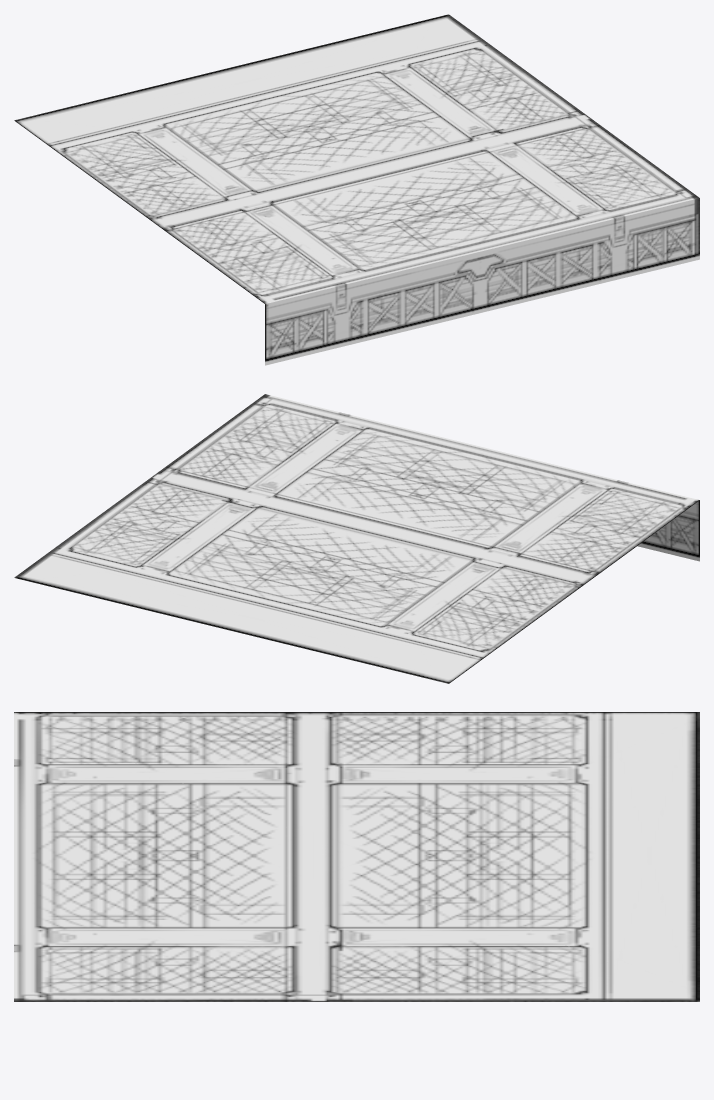
Rendered from WFpCube4.fbx.
3 views of the same model, one above another, from view 1: azimuth 30°, elevation 25°; view 2: azimuth 150°, elevation 25°; view 3: azimuth 270°, elevation 25° (orthographic). The views are drawn at different scales.
Parts seen in each view (by area): view 1: pCube4; view 2: pCube4; view 3: pCube4.
Part boxes in pixels (<box>): pCube4: <box>14,14,699,365</box>; pCube4: <box>14,394,699,683</box>; pCube4: <box>14,712,699,1001</box>.
Size of the model in its own units: 100 by 13.5 by 100.
1 material, 1 textured.
